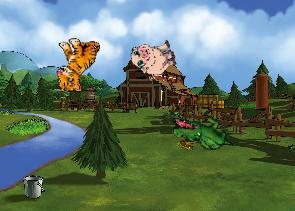crocodile: (171, 112, 233, 153)
pig: (127, 32, 180, 83)
tiger: (54, 36, 101, 92)
